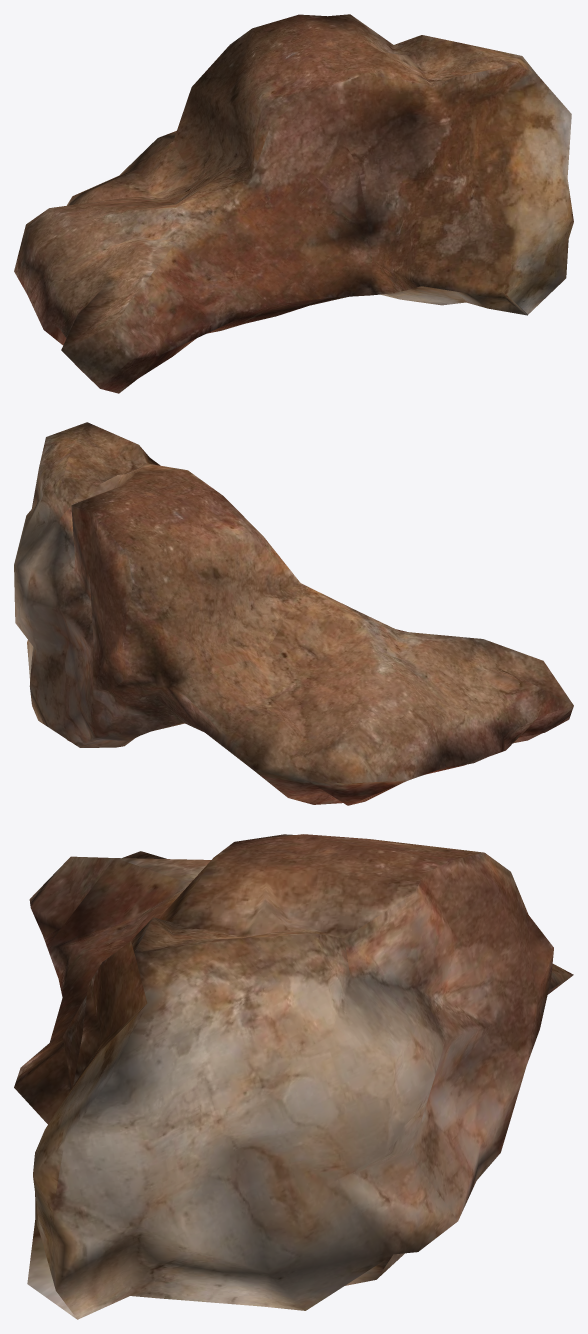
Rendered from stone_01.glb.
The picture shows the model from 3 angles, top to bottom: view 1: azimuth 30°, elevation 25°; view 2: azimuth 150°, elevation 25°; view 3: azimuth 270°, elevation 25°; orthographic projection. The views are drawn at different scales.
Visible parts, largest first — view 1: stone_01_LOD0; view 2: stone_01_LOD0; view 3: stone_01_LOD0.
Part boxes in pixels (<box>): stone_01_LOD0: <box>14,14,573,393</box>; stone_01_LOD0: <box>14,422,573,805</box>; stone_01_LOD0: <box>14,834,573,1319</box>.
Bounding box in the file's own units: 0.1462 × 0.0708 × 0.0886.
1 material, 1 textured.
